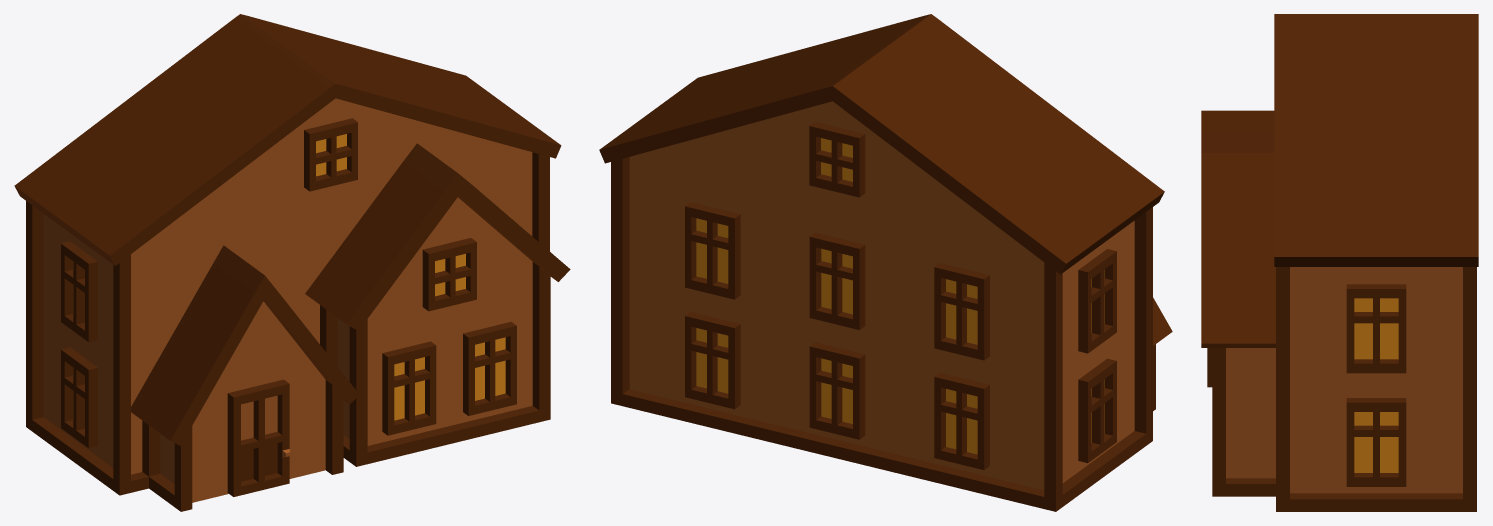
File: City1LivingHouse2.fbx
3 renders of one model, left to right at view 1: azimuth 30°, elevation 25°; view 2: azimuth 150°, elevation 25°; view 3: azimuth 270°, elevation 25°, orthographic. The views are drawn at different scales.
Visible parts, largest first — view 1: Cube.037; view 2: Cube.037; view 3: Cube.037.
Boxes of the visible parts, left/top/right/bottom form: Cube.037: left=14, top=14, right=570, bottom=511; Cube.037: left=599, top=14, right=1172, bottom=511; Cube.037: left=1201, top=14, right=1478, bottom=511.
Bounding box in the file's own units: 200 × 153 × 99.53.
